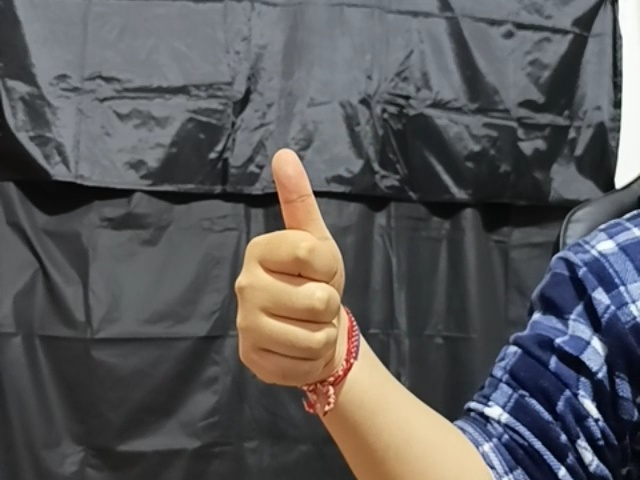A: (229, 145, 361, 388)
